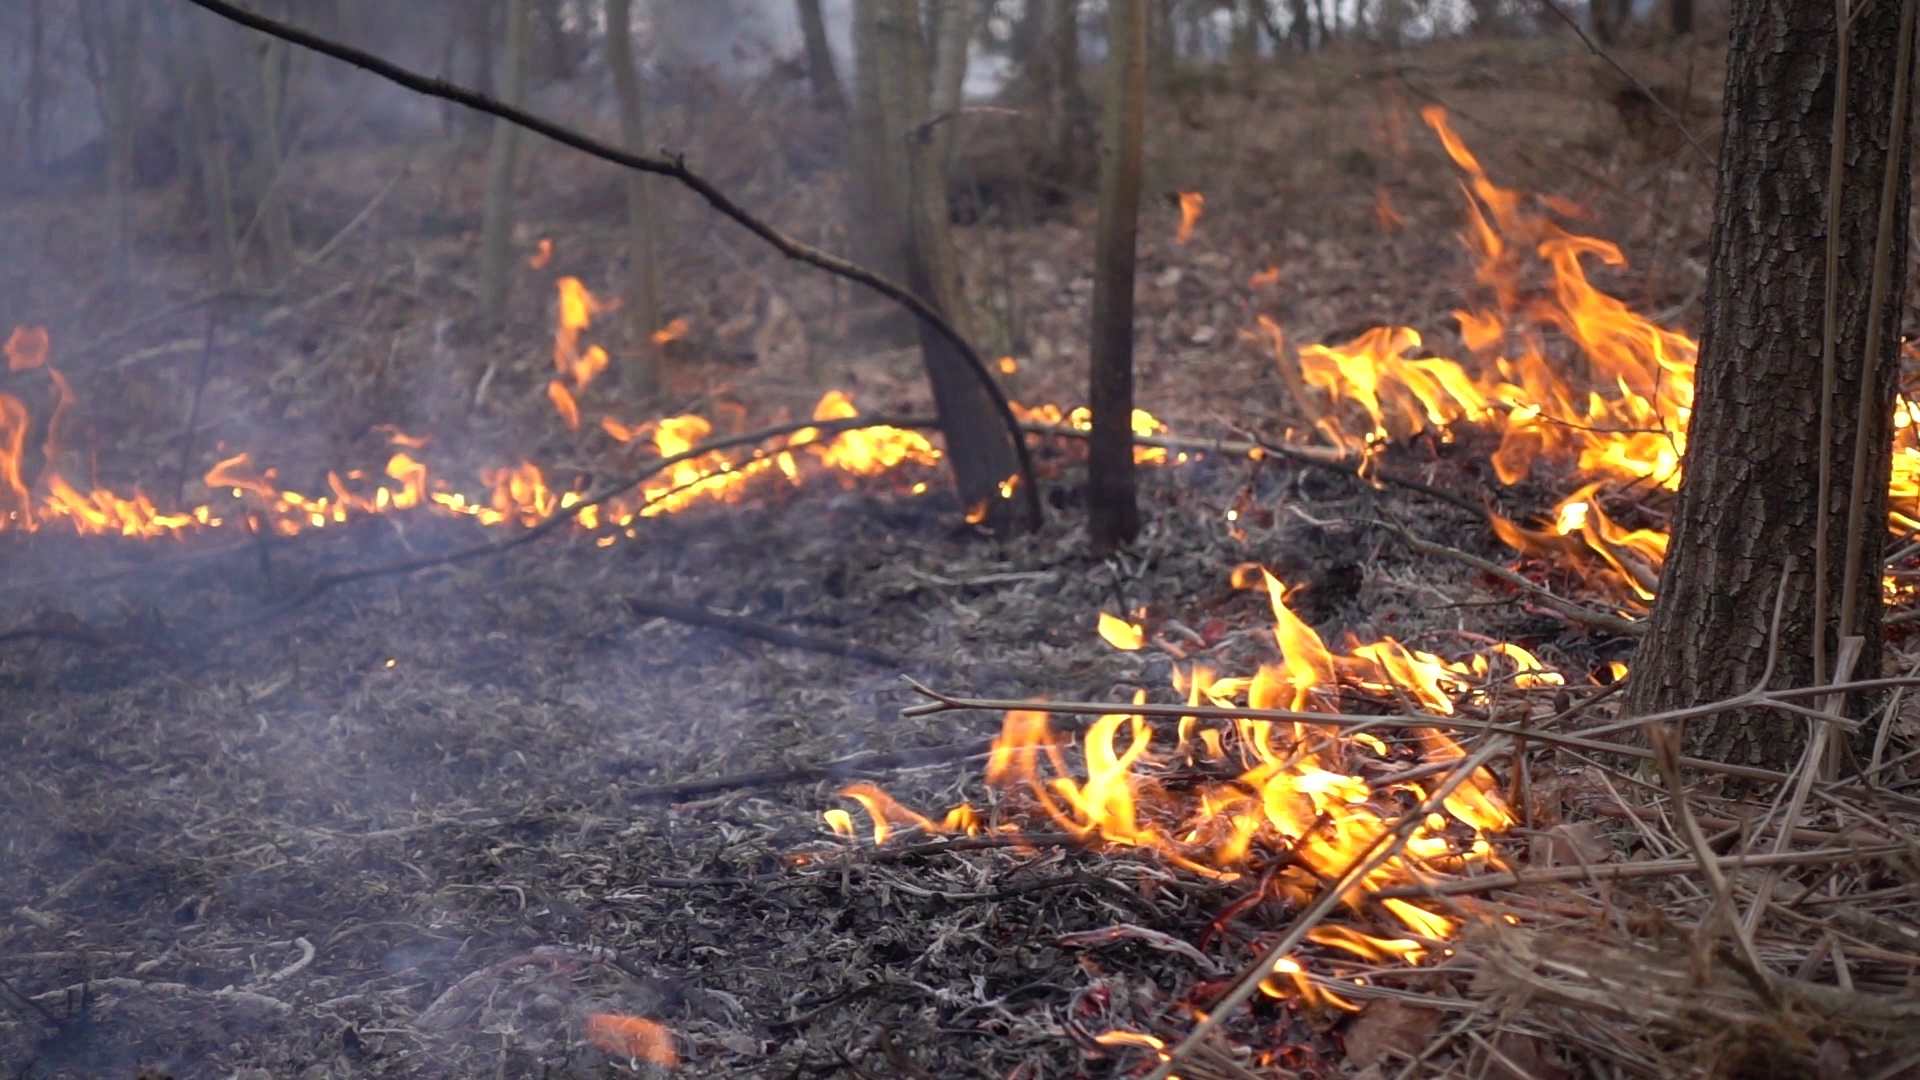fire: (978, 564, 1505, 949), (1267, 252, 1693, 585), (214, 458, 429, 529), (1, 477, 189, 541), (810, 398, 931, 473), (645, 417, 738, 512), (549, 273, 600, 431), (485, 462, 596, 530), (1894, 393, 1920, 527)
